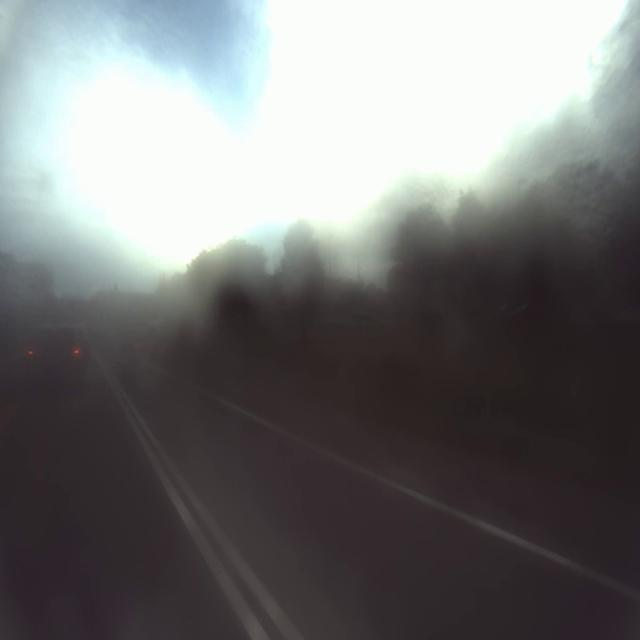car: (17, 316, 82, 390)
